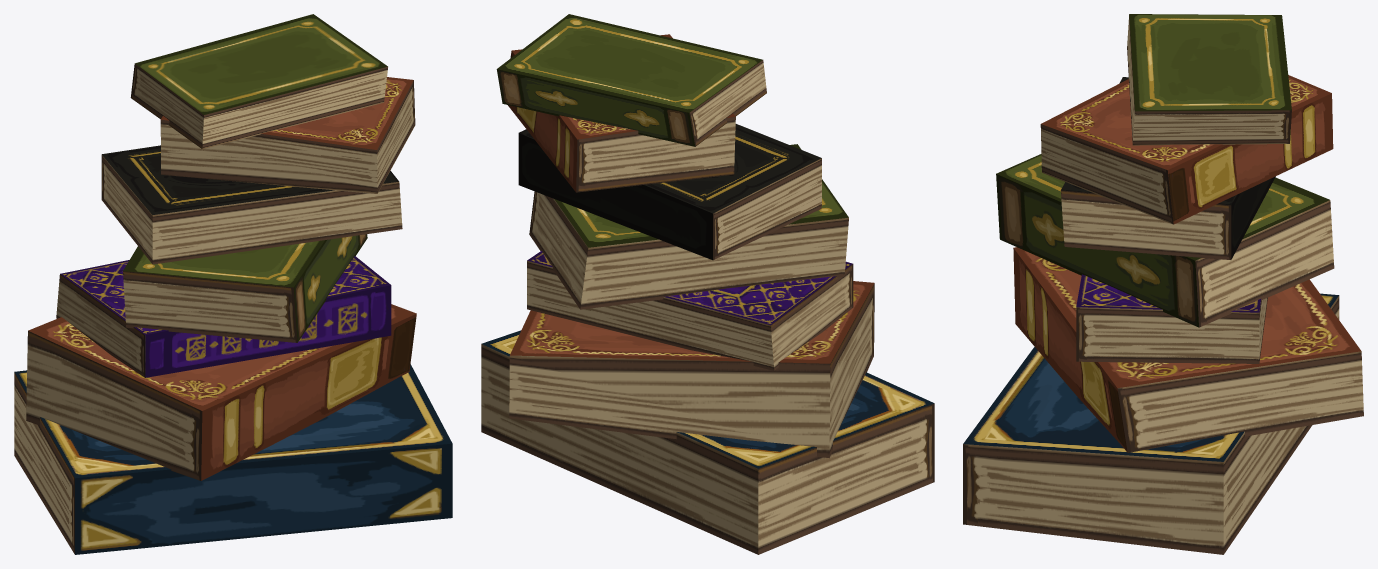
File: SM_PROP_bookpile_dungeon_01.fbx
3 views of the same model, side by side, from view 1: azimuth 30°, elevation 25°; view 2: azimuth 150°, elevation 25°; view 3: azimuth 270°, elevation 25° (orthographic). The views are drawn at different scales.
Parts seen in each view (by area): view 1: SM_PROP_bookpile_dungeon_01; view 2: SM_PROP_bookpile_dungeon_01; view 3: SM_PROP_bookpile_dungeon_01.
Part boxes in pixels (x1,y1,x2,y2): SM_PROP_bookpile_dungeon_01: [14, 14, 452, 554]; SM_PROP_bookpile_dungeon_01: [481, 14, 934, 554]; SM_PROP_bookpile_dungeon_01: [963, 14, 1363, 554].
Bounding box in the file's own units: 40.65 × 39.92 × 34.35.
